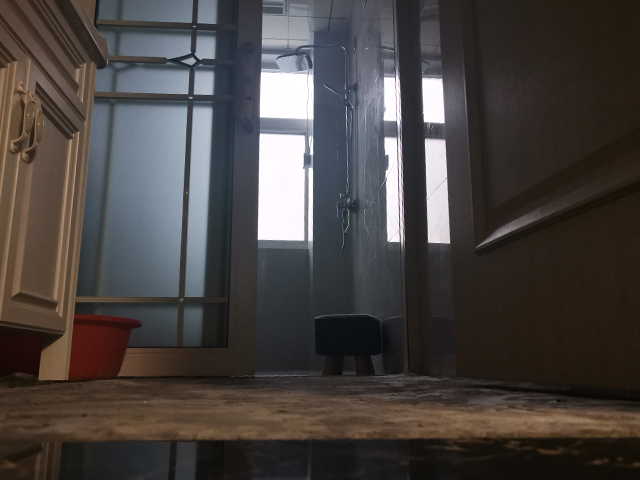cabinet: (1, 1, 111, 384)
carpet: (1, 372, 640, 447)
stool: (313, 311, 385, 377)
